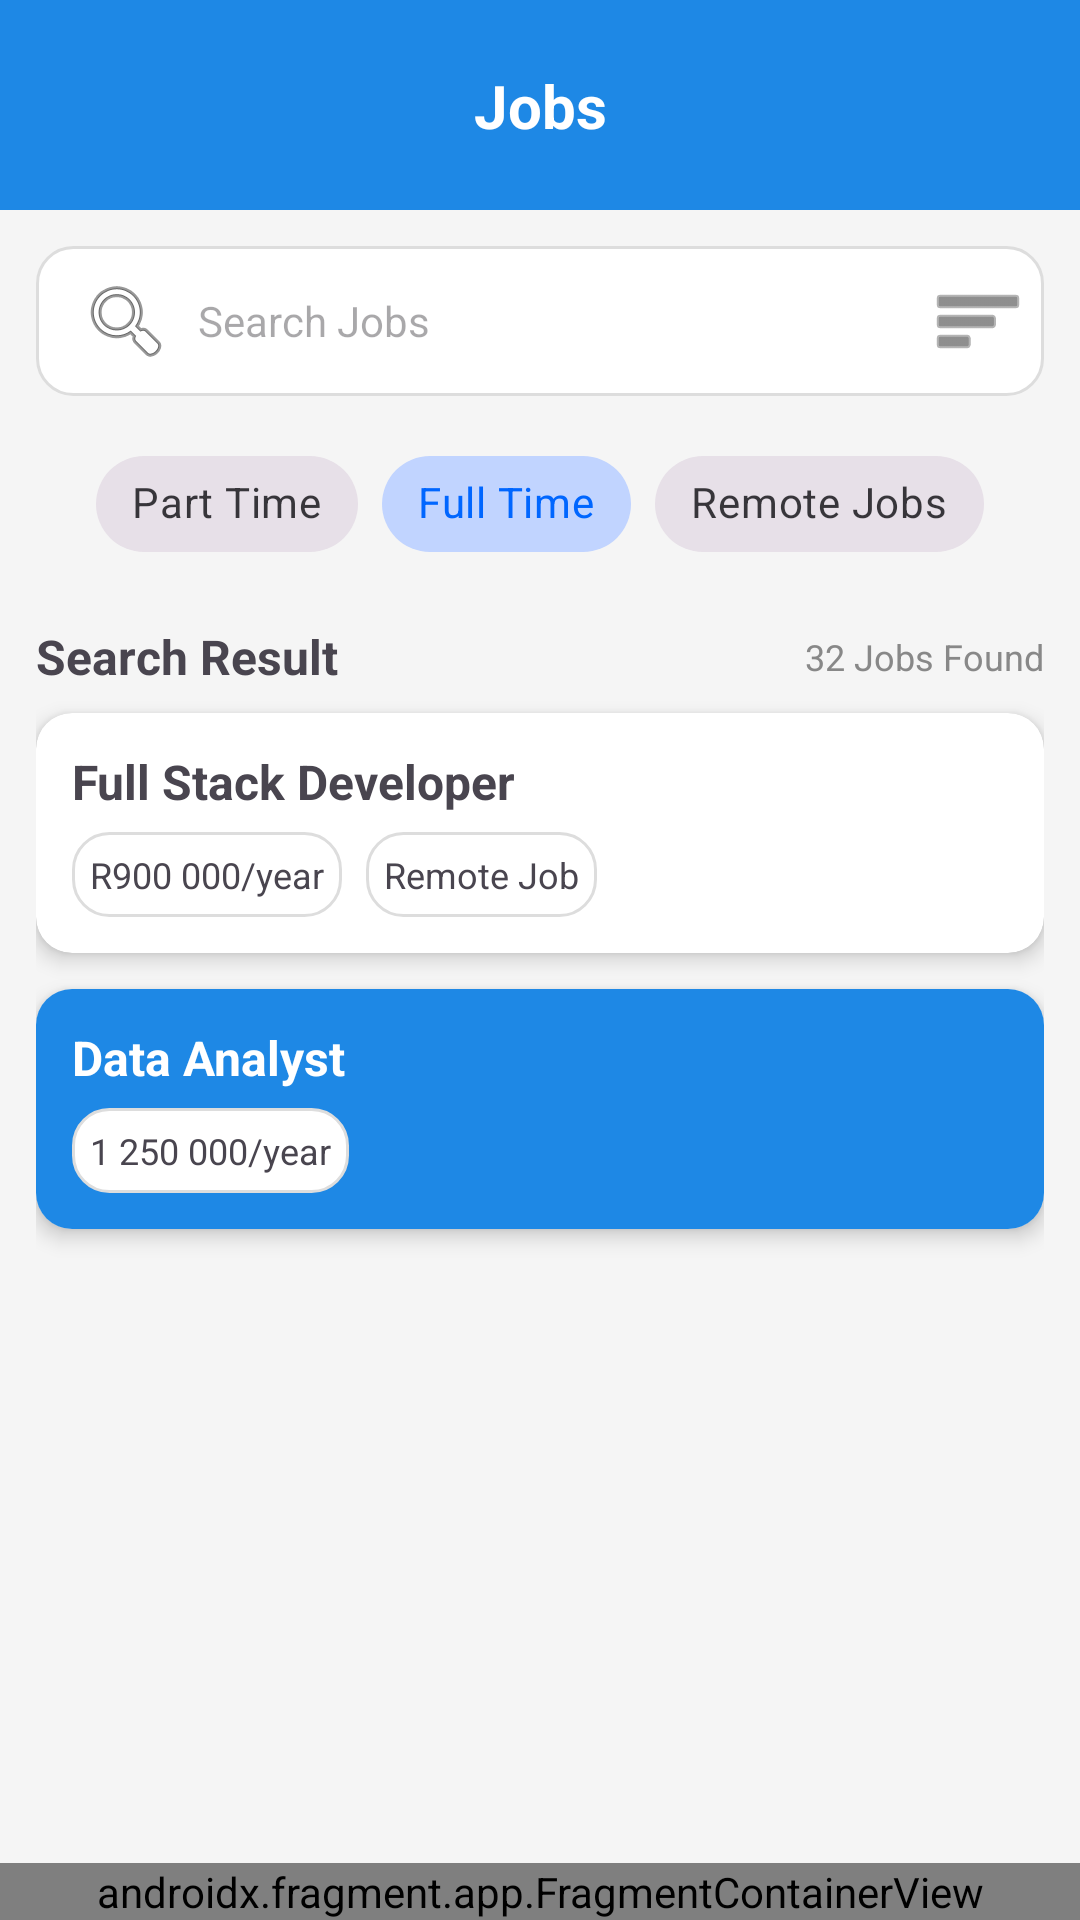

Point at icon controls on the screen. Image size 1080x1920, points as (x=x, y=y).
sort by size: (x=978, y=321)
